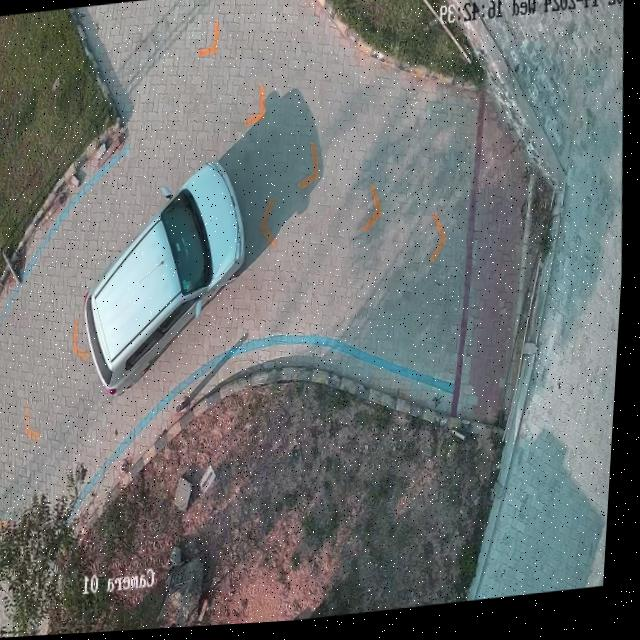car: (89, 165, 248, 396)
